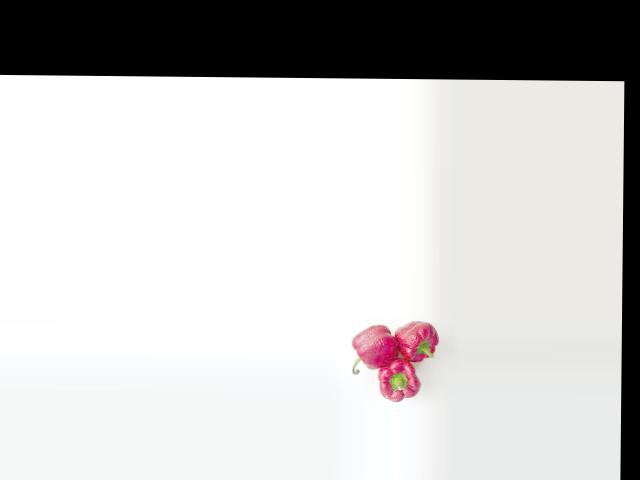bell_pepper: (341, 322, 394, 377)
